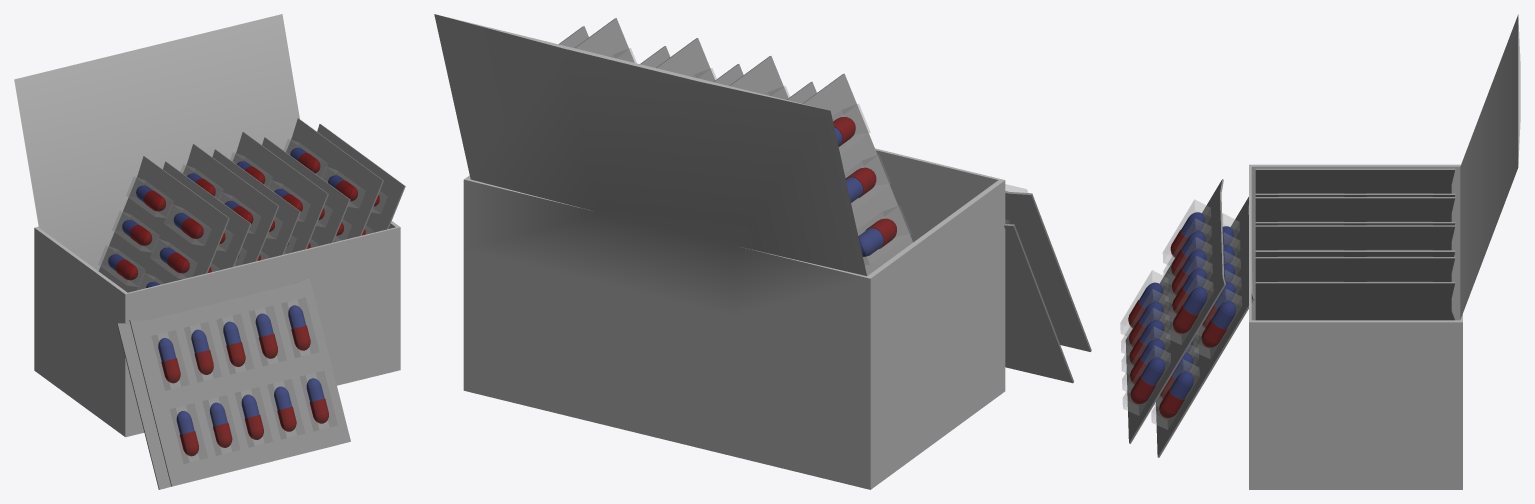
Rendered from meds.fbx.
3 renders of one model, left to right at view 1: azimuth 30°, elevation 25°; view 2: azimuth 150°, elevation 25°; view 3: azimuth 270°, elevation 25°, orthographic. The views are drawn at different scales.
Visible parts, largest first — view 1: pCube1, pPlane2 (×5), pPlane1 (×5), pSphere17 (×2), pSphere11 (×2), pSphere13 (×2), pSphere14 (×2), pSphere19 (×2), pSphere18, pSphere12, pSphere15, pSphere16 (+1 smaller); view 2: pCube1, pPlane2 (×5), pPlane1, pSphere16, pSphere17; view 3: pCube1, pPlane2 (×5), pPlane1 (×5), pSphere8, pSphere3, pSphere11, pSphere14, pSphere12, pSphere18, pSphere19, pSphere13, pSphere16 (+3 smaller).
Part boxes in pixels (x1,y1,x2,y2): pCube1: [14, 14, 400, 437]; pPlane2 (×5): [98, 118, 383, 486]; pPlane1 (×5): [117, 124, 405, 489]; pSphere17 (×2): [159, 247, 296, 431]; pSphere11 (×2): [136, 185, 310, 350]; pSphere13 (×2): [108, 254, 245, 366]; pSphere14 (×2): [173, 213, 328, 423]; pSphere19 (×2): [122, 220, 277, 358]; pSphere18: [176, 411, 198, 456]; pSphere12: [158, 338, 180, 383]; pSphere15: [191, 329, 213, 374]; pSphere16: [241, 394, 263, 439]; pCube1: [434, 14, 1005, 489]; pPlane2 (×5): [574, 18, 1091, 351]; pPlane1: [1004, 219, 1073, 383]; pSphere16: [858, 218, 896, 256]; pSphere17: [845, 167, 876, 202]; pCube1: [1249, 14, 1520, 489]; pPlane2 (×5): [1120, 168, 1455, 443]; pPlane1 (×5): [1151, 193, 1455, 457]; pSphere8: [1159, 371, 1193, 418]; pSphere3: [1201, 301, 1235, 347]; pSphere11: [1173, 287, 1207, 333]; pSphere14: [1130, 357, 1165, 404]; pSphere12: [1170, 212, 1205, 257]; pSphere18: [1128, 282, 1162, 327]; pSphere19: [1172, 268, 1206, 313]; pSphere13: [1172, 249, 1206, 294]; pSphere16: [1129, 320, 1163, 365].
Size of the model in its own units: 6.93 by 6.74 by 7.06.
